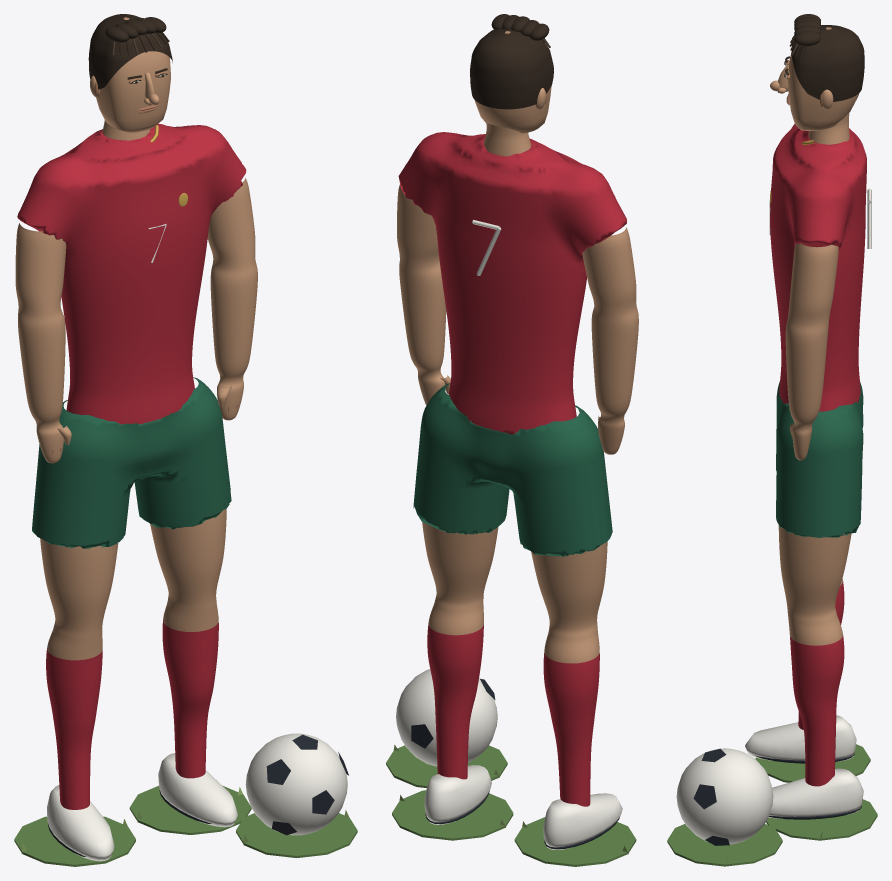
Rendered from ronaldo.glb.
3 renders of one model, left to right at view 1: azimuth 30°, elevation 25°; view 2: azimuth 150°, elevation 25°; view 3: azimuth 270°, elevation 25°, orthographic. The views are drawn at different scales.
Visible parts, largest first — view 1: jersey_crimson, shorts_green, arms_tan, legs_tan, legs_crimson, turf_grass, football_white, boots_white, head_tan, hair_cap_hair, football_panels_ink, quiff_hair; view 2: jersey_crimson, shorts_green, arms_tan, legs_tan, legs_crimson, turf_grass, boots_white, hair_cap_hair, football_white, head_tan, neck_tan, quiff_hair (+1 smaller); view 3: jersey_crimson, shorts_green, arms_tan, football_white, turf_grass, legs_tan, legs_crimson, boots_white, hair_cap_hair, head_tan, football_panels_ink, quiff_hair (+2 smaller).
Part boxes in pixels (bbox=[...]): jersey_crimson: bbox=[17, 123, 246, 424]; shorts_green: bbox=[32, 377, 231, 548]; arms_tan: bbox=[15, 177, 257, 463]; legs_tan: bbox=[40, 509, 226, 660]; legs_crimson: bbox=[46, 620, 218, 809]; turf_grass: bbox=[14, 785, 357, 866]; football_white: bbox=[245, 733, 347, 835]; boots_white: bbox=[47, 753, 237, 861]; head_tan: bbox=[96, 17, 170, 133]; hair_cap_hair: bbox=[88, 14, 172, 89]; football_panels_ink: bbox=[266, 734, 348, 835]; quiff_hair: bbox=[105, 17, 166, 42]; jersey_crimson: bbox=[398, 132, 626, 434]; shorts_green: bbox=[413, 383, 612, 556]; arms_tan: bbox=[397, 184, 638, 454]; legs_tan: bbox=[422, 522, 607, 663]; legs_crimson: bbox=[427, 624, 599, 806]; turf_grass: bbox=[386, 745, 636, 866]; boots_white: bbox=[424, 765, 622, 849]; hair_cap_hair: bbox=[470, 28, 553, 109]; football_white: bbox=[396, 669, 497, 766]; head_tan: bbox=[474, 31, 551, 133]; neck_tan: bbox=[483, 123, 531, 156]; quiff_hair: bbox=[491, 14, 549, 40]; jersey_crimson: bbox=[770, 124, 866, 411]; shorts_green: bbox=[776, 381, 863, 537]; arms_tan: bbox=[785, 242, 838, 460]; football_white: bbox=[676, 748, 773, 844]; turf_grass: bbox=[667, 744, 877, 866]; legs_tan: bbox=[778, 525, 851, 645]; legs_crimson: bbox=[790, 581, 844, 786]; boots_white: bbox=[745, 715, 863, 818]; hair_cap_hair: bbox=[791, 25, 864, 101]; head_tan: bbox=[788, 27, 859, 130]; football_panels_ink: bbox=[693, 748, 729, 845]; quiff_hair: bbox=[794, 14, 820, 46].
Bounding box in the file's own units: 0.7011 × 1.89 × 0.4705.
